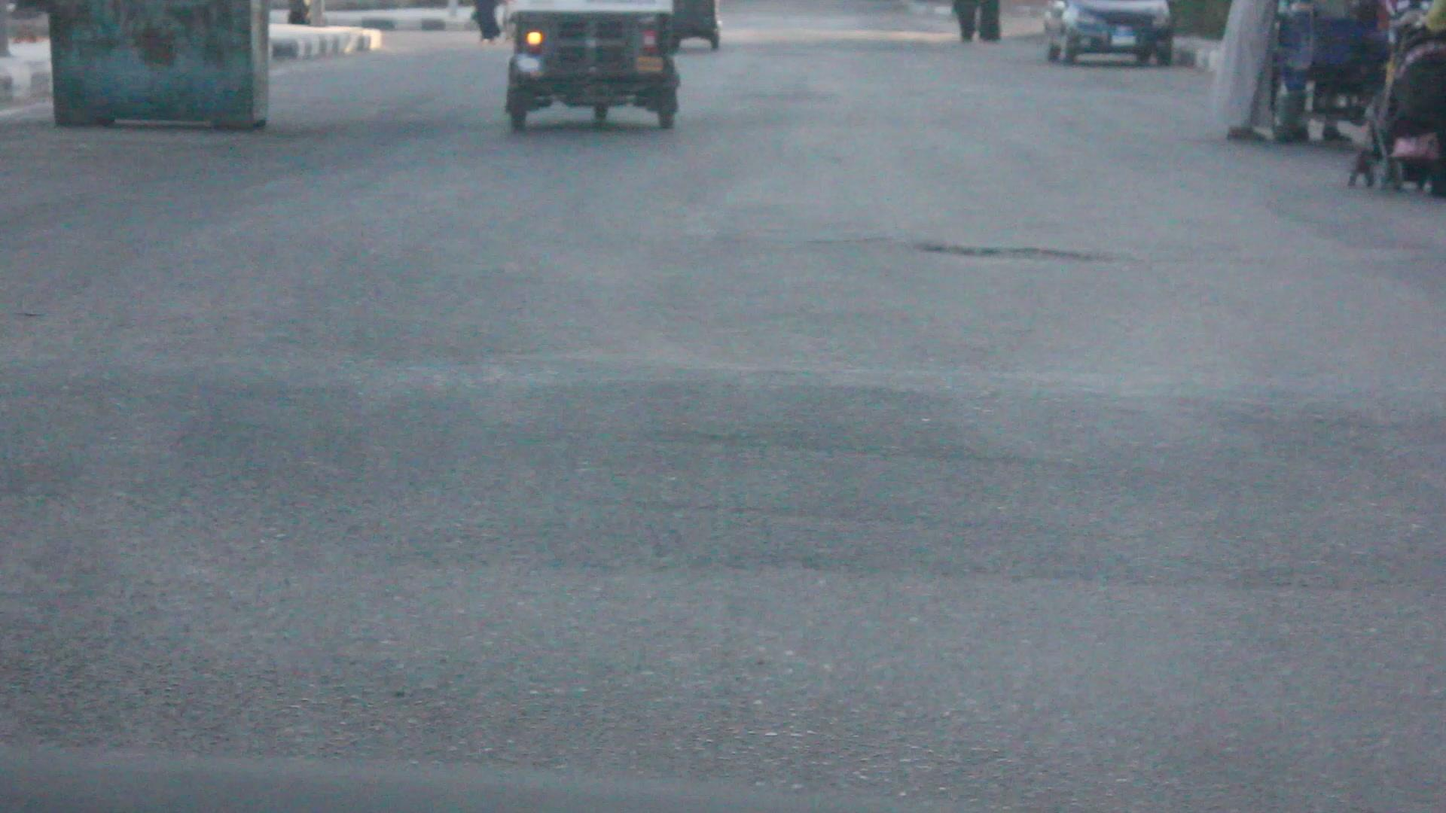Bump: (19, 359, 1446, 636)
